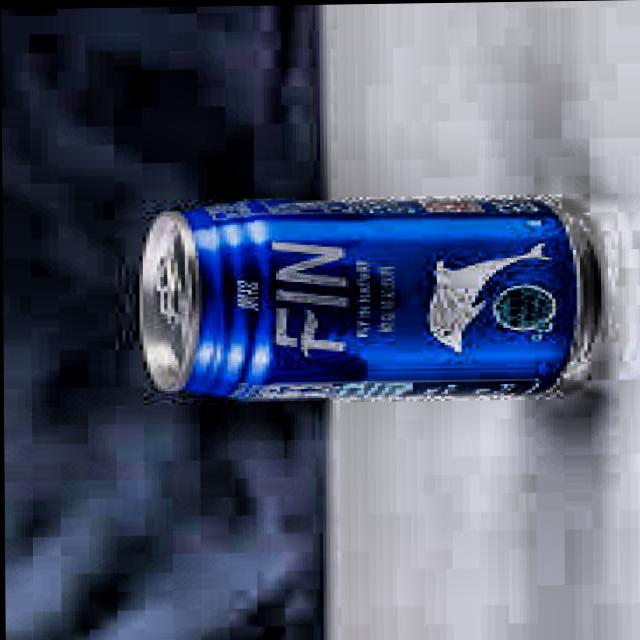litter: (129, 190, 606, 410)
